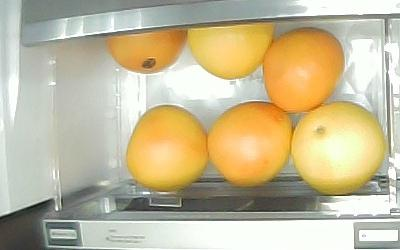grapefruit: (291, 101, 385, 196), (207, 101, 292, 188), (262, 28, 345, 113), (126, 105, 207, 192), (187, 20, 274, 79), (107, 27, 187, 74)
